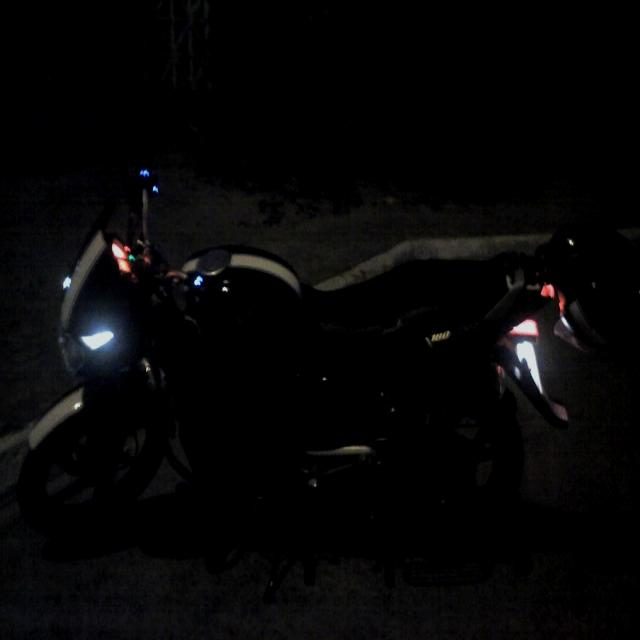Motorbike: (19, 154, 640, 607)
